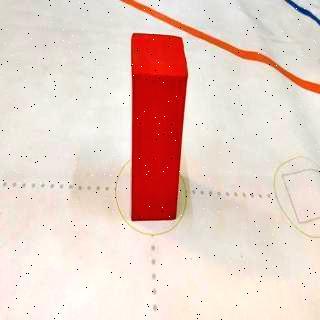redbox: (130, 31, 188, 222)
